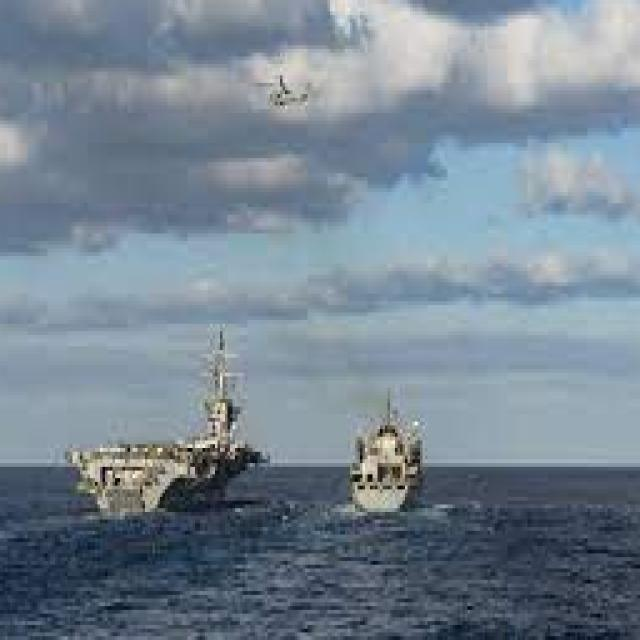navalvessels: (59, 333, 256, 510), (342, 384, 422, 530)
